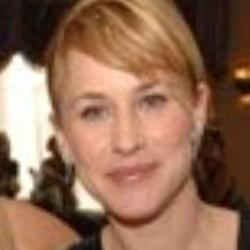face: (27, 3, 222, 225)
